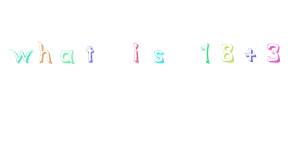+: (244, 47, 257, 63)
1: (199, 40, 212, 64)
3: (264, 41, 282, 63)
8: (220, 42, 235, 63)
a: (59, 49, 76, 64)
h: (37, 40, 53, 64)
i: (130, 41, 142, 64)
s: (152, 48, 165, 64)
t: (85, 45, 96, 63)
w: (10, 49, 33, 64)
